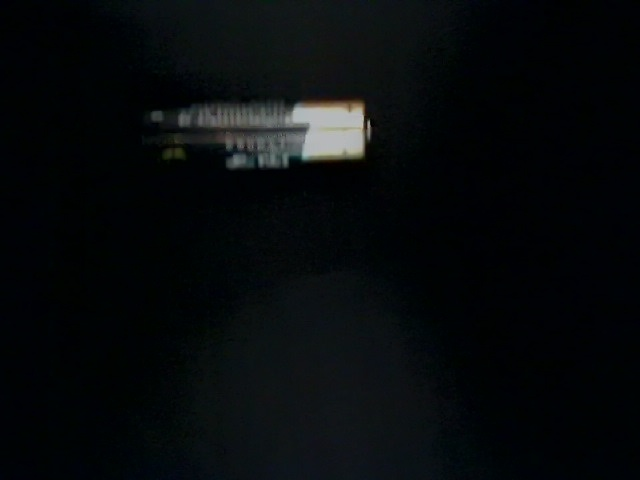YHLJ: (111, 219, 356, 306)
